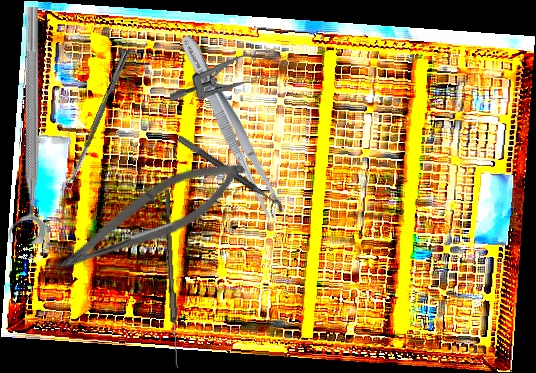Dressing Forceps: (174, 31, 287, 220)
Fixation Ring: (170, 134, 287, 220), (5, 7, 46, 244)
Micro Scissor: (47, 139, 255, 297)
Speculum: (167, 49, 280, 102)
Surgical Spoon: (64, 48, 130, 191), (161, 189, 182, 369)
